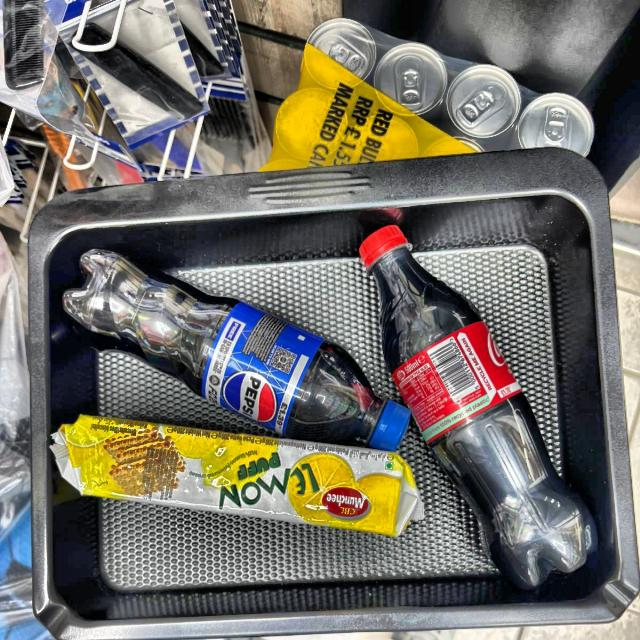coke-bottle: (366, 215, 590, 584)
lemon puff: (42, 411, 426, 555)
pepsi-bottle: (60, 252, 412, 464)
